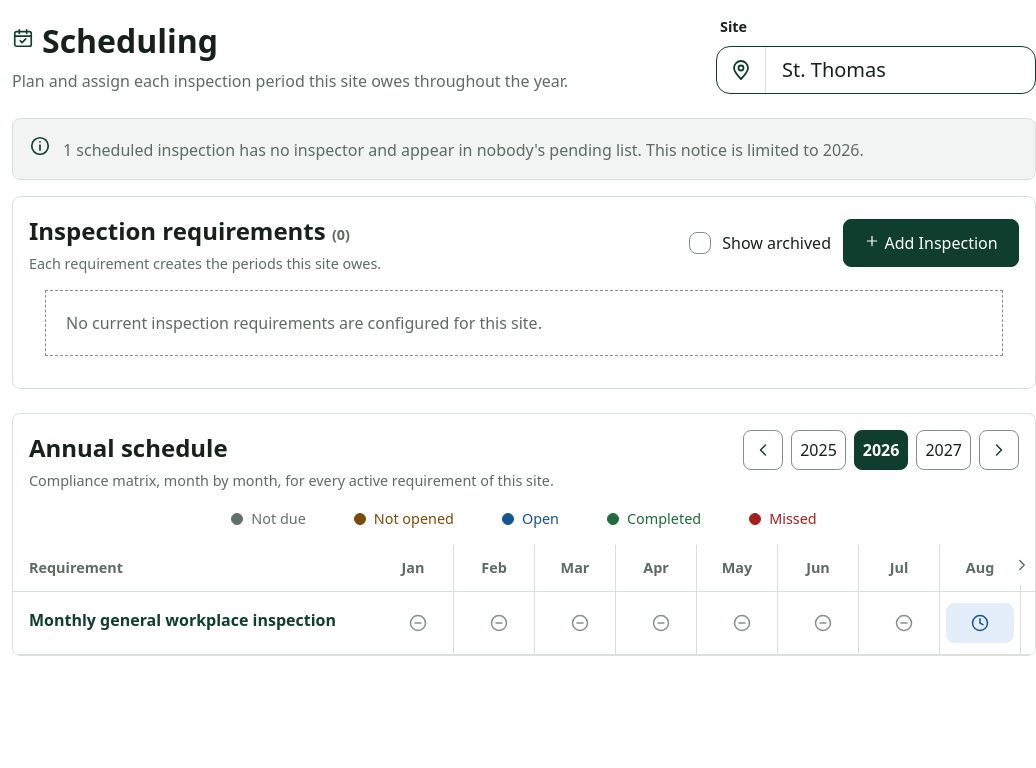
it: requirements y permisos › restaura sin reactivar y muestra los rechazos del servidor
What coordinates should you click on to do the following:
click the checkbox labelled "Show archived"
I would click on:
 (700, 243)
Its box is 689,232 -> 711,254.
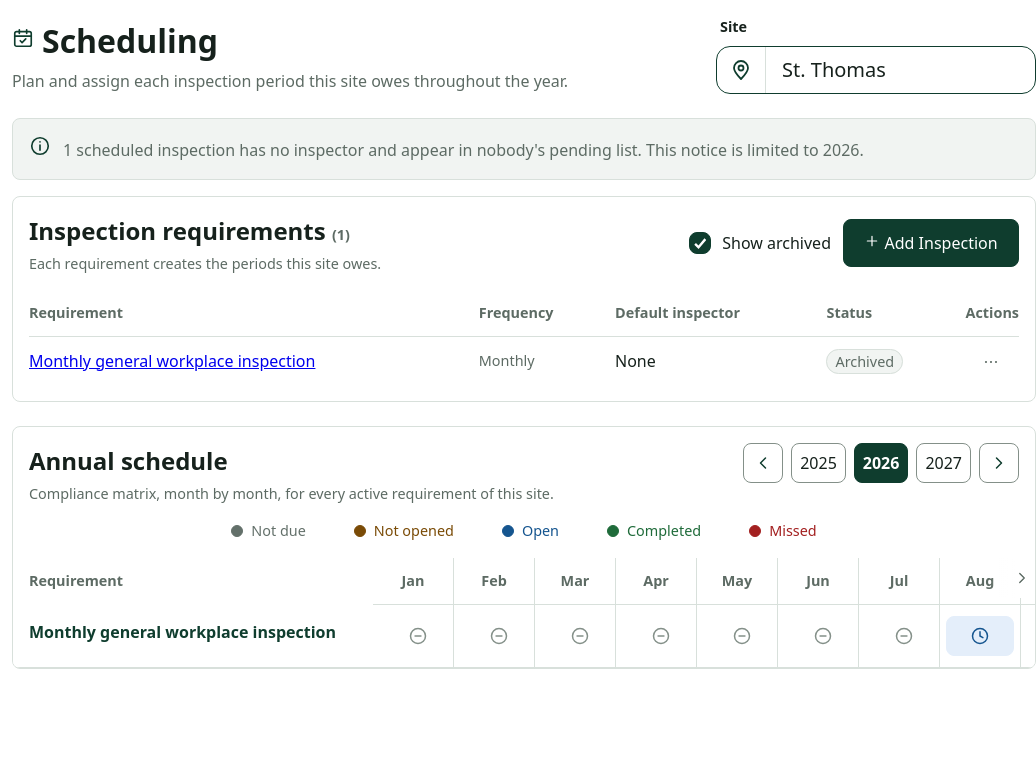
What coordinates should you click on to do the following:
click the button named "More actions"
I would click on:
 (991, 365)
Its box is 967,341 -> 1015,389.
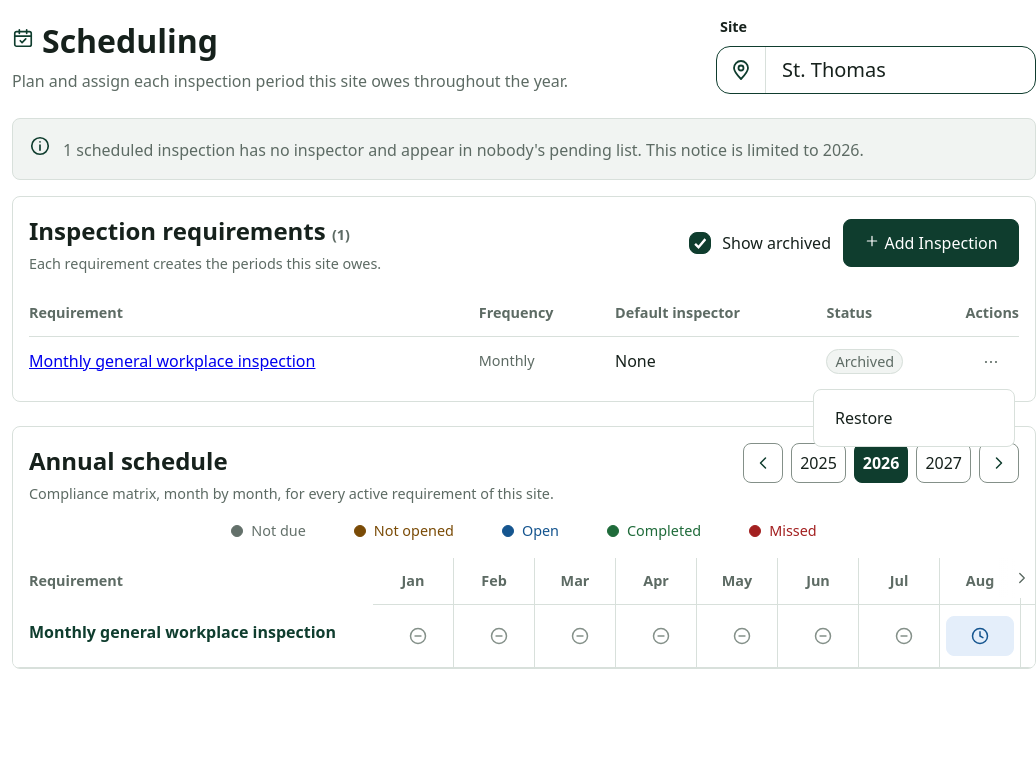
What coordinates should you click on to do the following:
click the menu item "Restore"
I would click on:
 (914, 418)
Its box is 818,394 -> 1010,442.
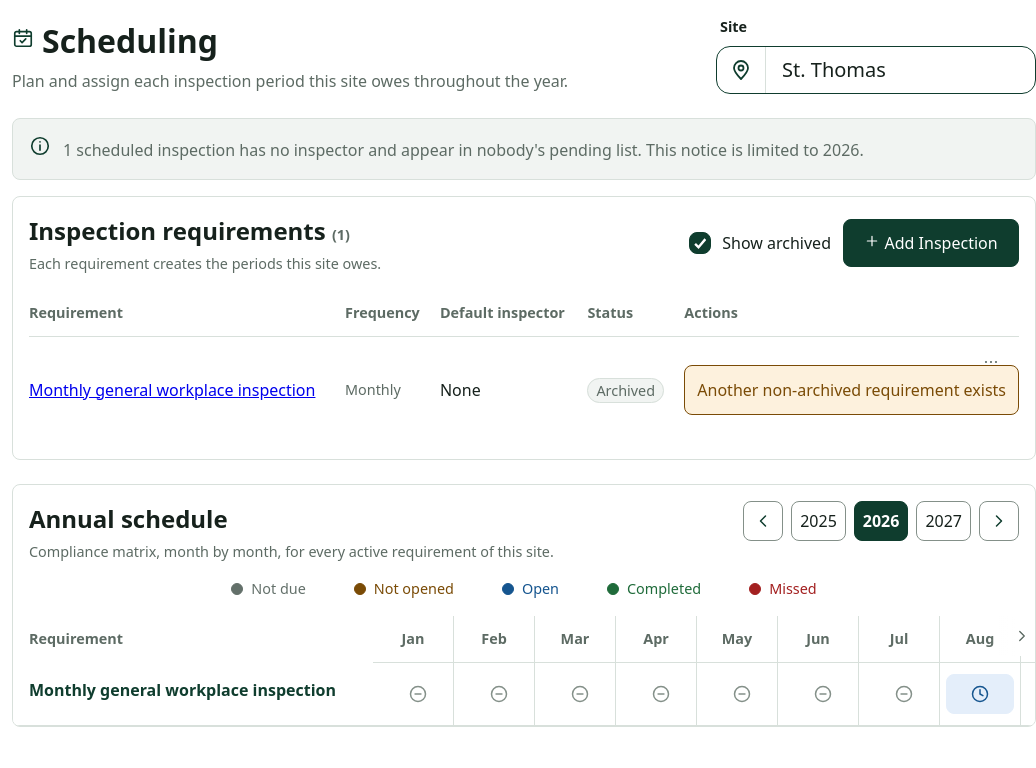
Now the text "Archived" is shown, box 587,378 -> 664,403
Now the message reads "Another non-archived requirement exists", box 697,379 -> 1006,401
